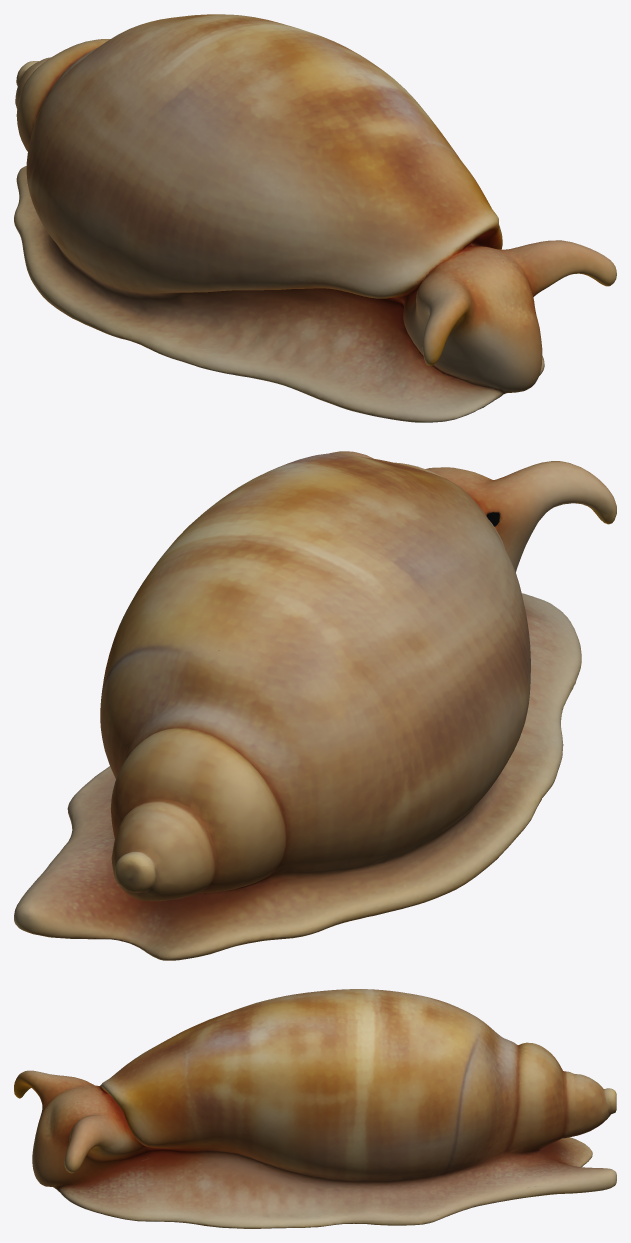
3 renders of one model, top to bottom at view 1: azimuth 30°, elevation 25°; view 2: azimuth 150°, elevation 25°; view 3: azimuth 270°, elevation 25°, orthographic. The views are drawn at different scales.
Visible parts, largest first — view 1: world; view 2: world; view 3: world.
Part boxes in pixels (x1,y1,x2,y2): world: [14, 14, 616, 422]; world: [14, 451, 616, 960]; world: [14, 989, 616, 1228].
Size of the model in its own units: 0.1139 by 0.075 by 0.2272.
Materials: 1 (1 with a texture image).
